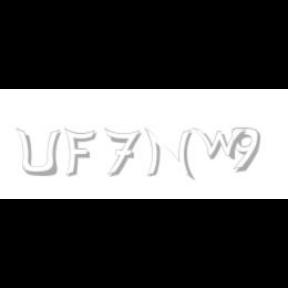7: (104, 128, 142, 178)
9: (232, 128, 260, 172)
F: (64, 128, 96, 178)
N: (144, 128, 192, 180)
U: (16, 128, 60, 178)
w: (192, 128, 252, 160)
